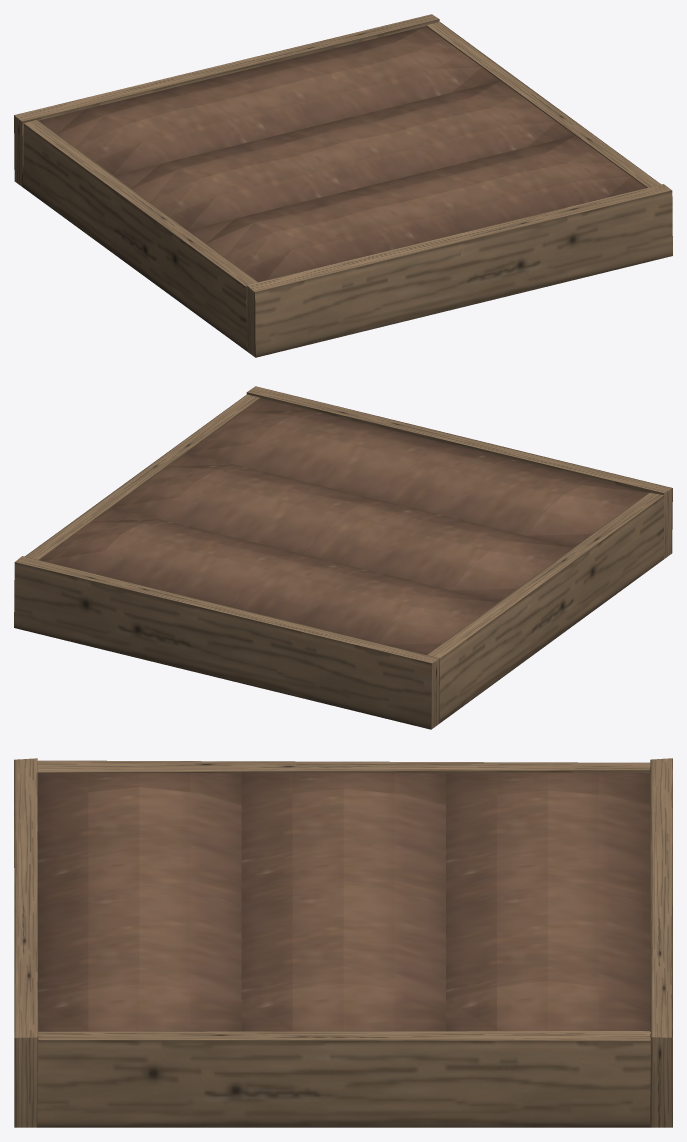
Rendered from plot.glb.
3 renders of one model, top to bottom at view 1: azimuth 30°, elevation 25°; view 2: azimuth 150°, elevation 25°; view 3: azimuth 270°, elevation 25°, orthographic. The views are drawn at different scales.
Visible parts, largest first — view 1: plot; view 2: plot; view 3: plot.
Boxes of the visible parts, <box> form: plot: <box>14,14,672,357</box>; plot: <box>14,386,672,729</box>; plot: <box>14,758,672,1127</box>.
Bounding box in the file's own units: 1.01 × 0.177 × 1.01.
Materials: 1 (1 with a texture image).
